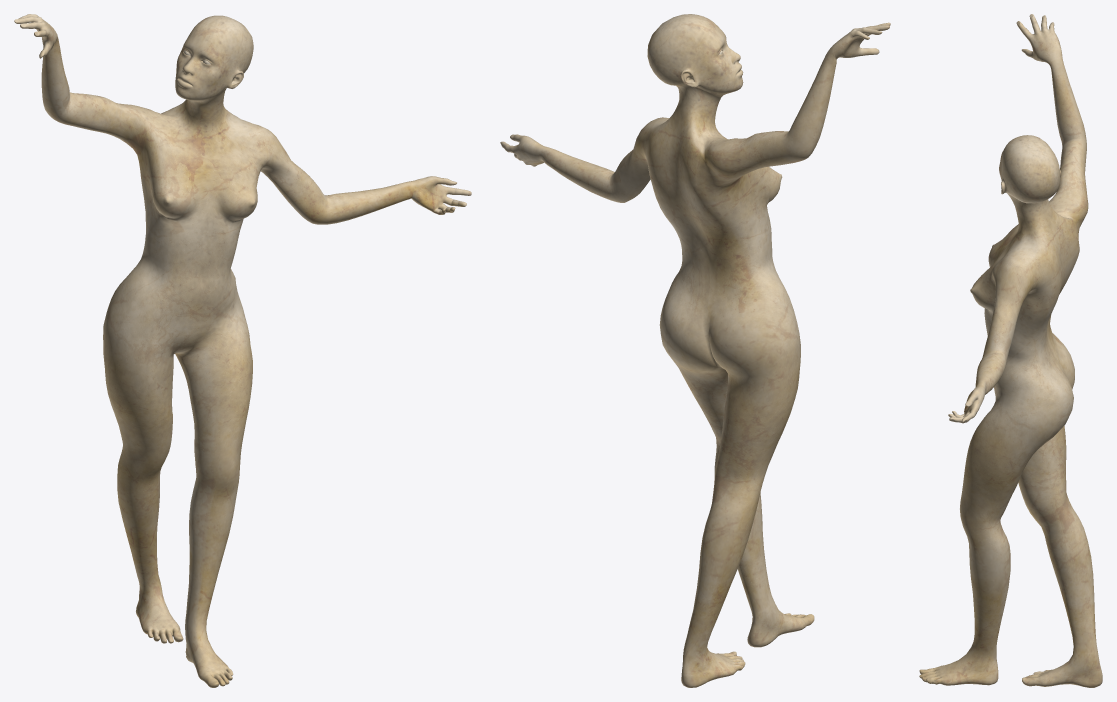
The model's file is female_marble_statue_polished_but_old.glb.
3 views of the same model, side by side, from view 1: azimuth 30°, elevation 25°; view 2: azimuth 150°, elevation 25°; view 3: azimuth 270°, elevation 25° (orthographic). The views are drawn at different scales.
Visible parts, largest first — view 1: sheherezadebase4-base; view 2: sheherezadebase4-base; view 3: sheherezadebase4-base.
Boxes of the visible parts, bbox=[...] form: sheherezadebase4-base: bbox=[14, 14, 471, 687]; sheherezadebase4-base: bbox=[500, 14, 890, 687]; sheherezadebase4-base: bbox=[919, 14, 1102, 687].
Bounding box in the file's own units: 1.23 × 1.85 × 0.5116.
2 materials, 2 textured.
